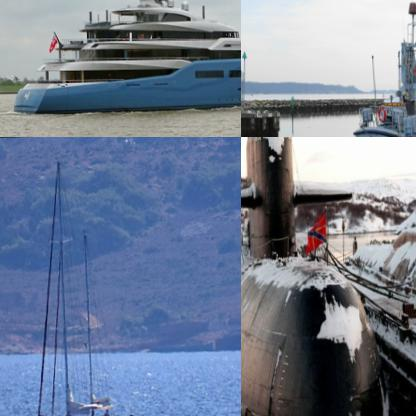Patrol Boat: (349, 0, 415, 136)
Sails Boat: (31, 157, 137, 415)
Submarine: (241, 137, 391, 415), (339, 137, 415, 363)
Yacht: (10, 0, 240, 113)
